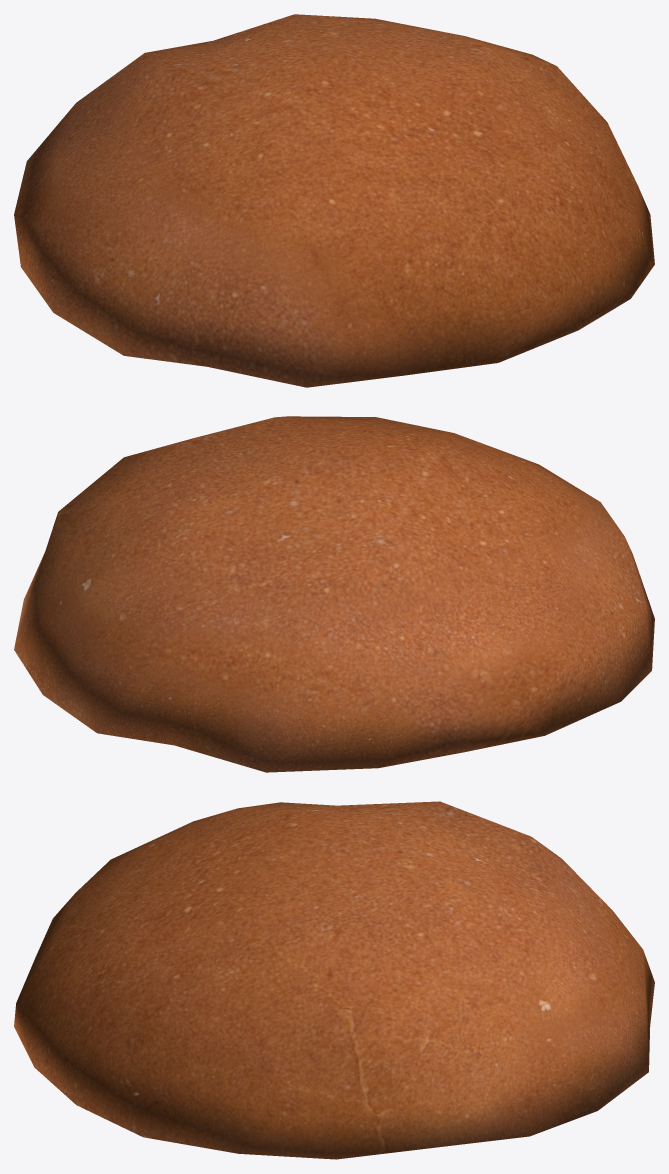
The model's file is Bun_Upper.fbx.
3 views of the same model, one above another, from view 1: azimuth 30°, elevation 25°; view 2: azimuth 150°, elevation 25°; view 3: azimuth 270°, elevation 25° (orthographic).
Visible parts, largest first — view 1: Bun_Upper; view 2: Bun_Upper; view 3: Bun_Upper.
Boxes of the visible parts, x1,y1,x2,y2 form: Bun_Upper: (14,14,654,387); Bun_Upper: (14,416,654,772); Bun_Upper: (14,801,654,1159).
Bounding box in the file's own units: 9.61 × 3.25 × 9.47.
